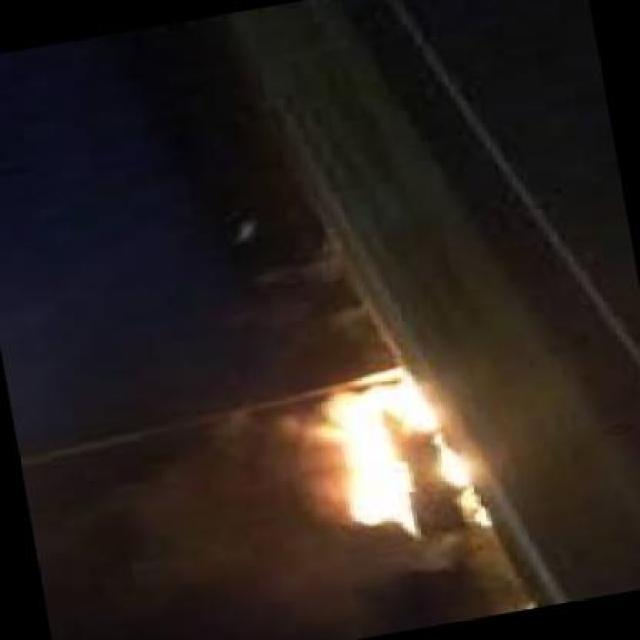Fire: (319, 374, 477, 537)
Smoke: (44, 407, 316, 640), (320, 542, 470, 636)
